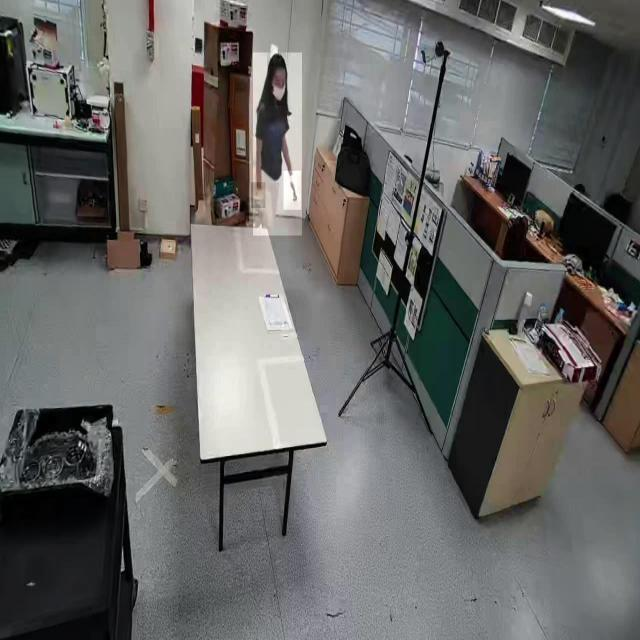gloves: (284, 170, 302, 210), (251, 182, 266, 209)
